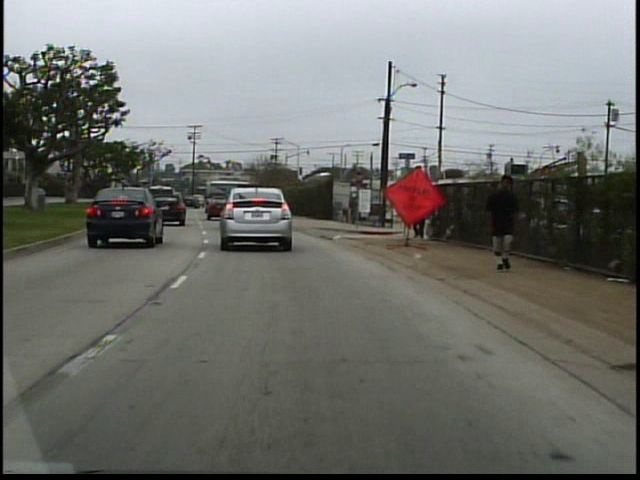person: (478, 169, 520, 279), (406, 183, 435, 243)
